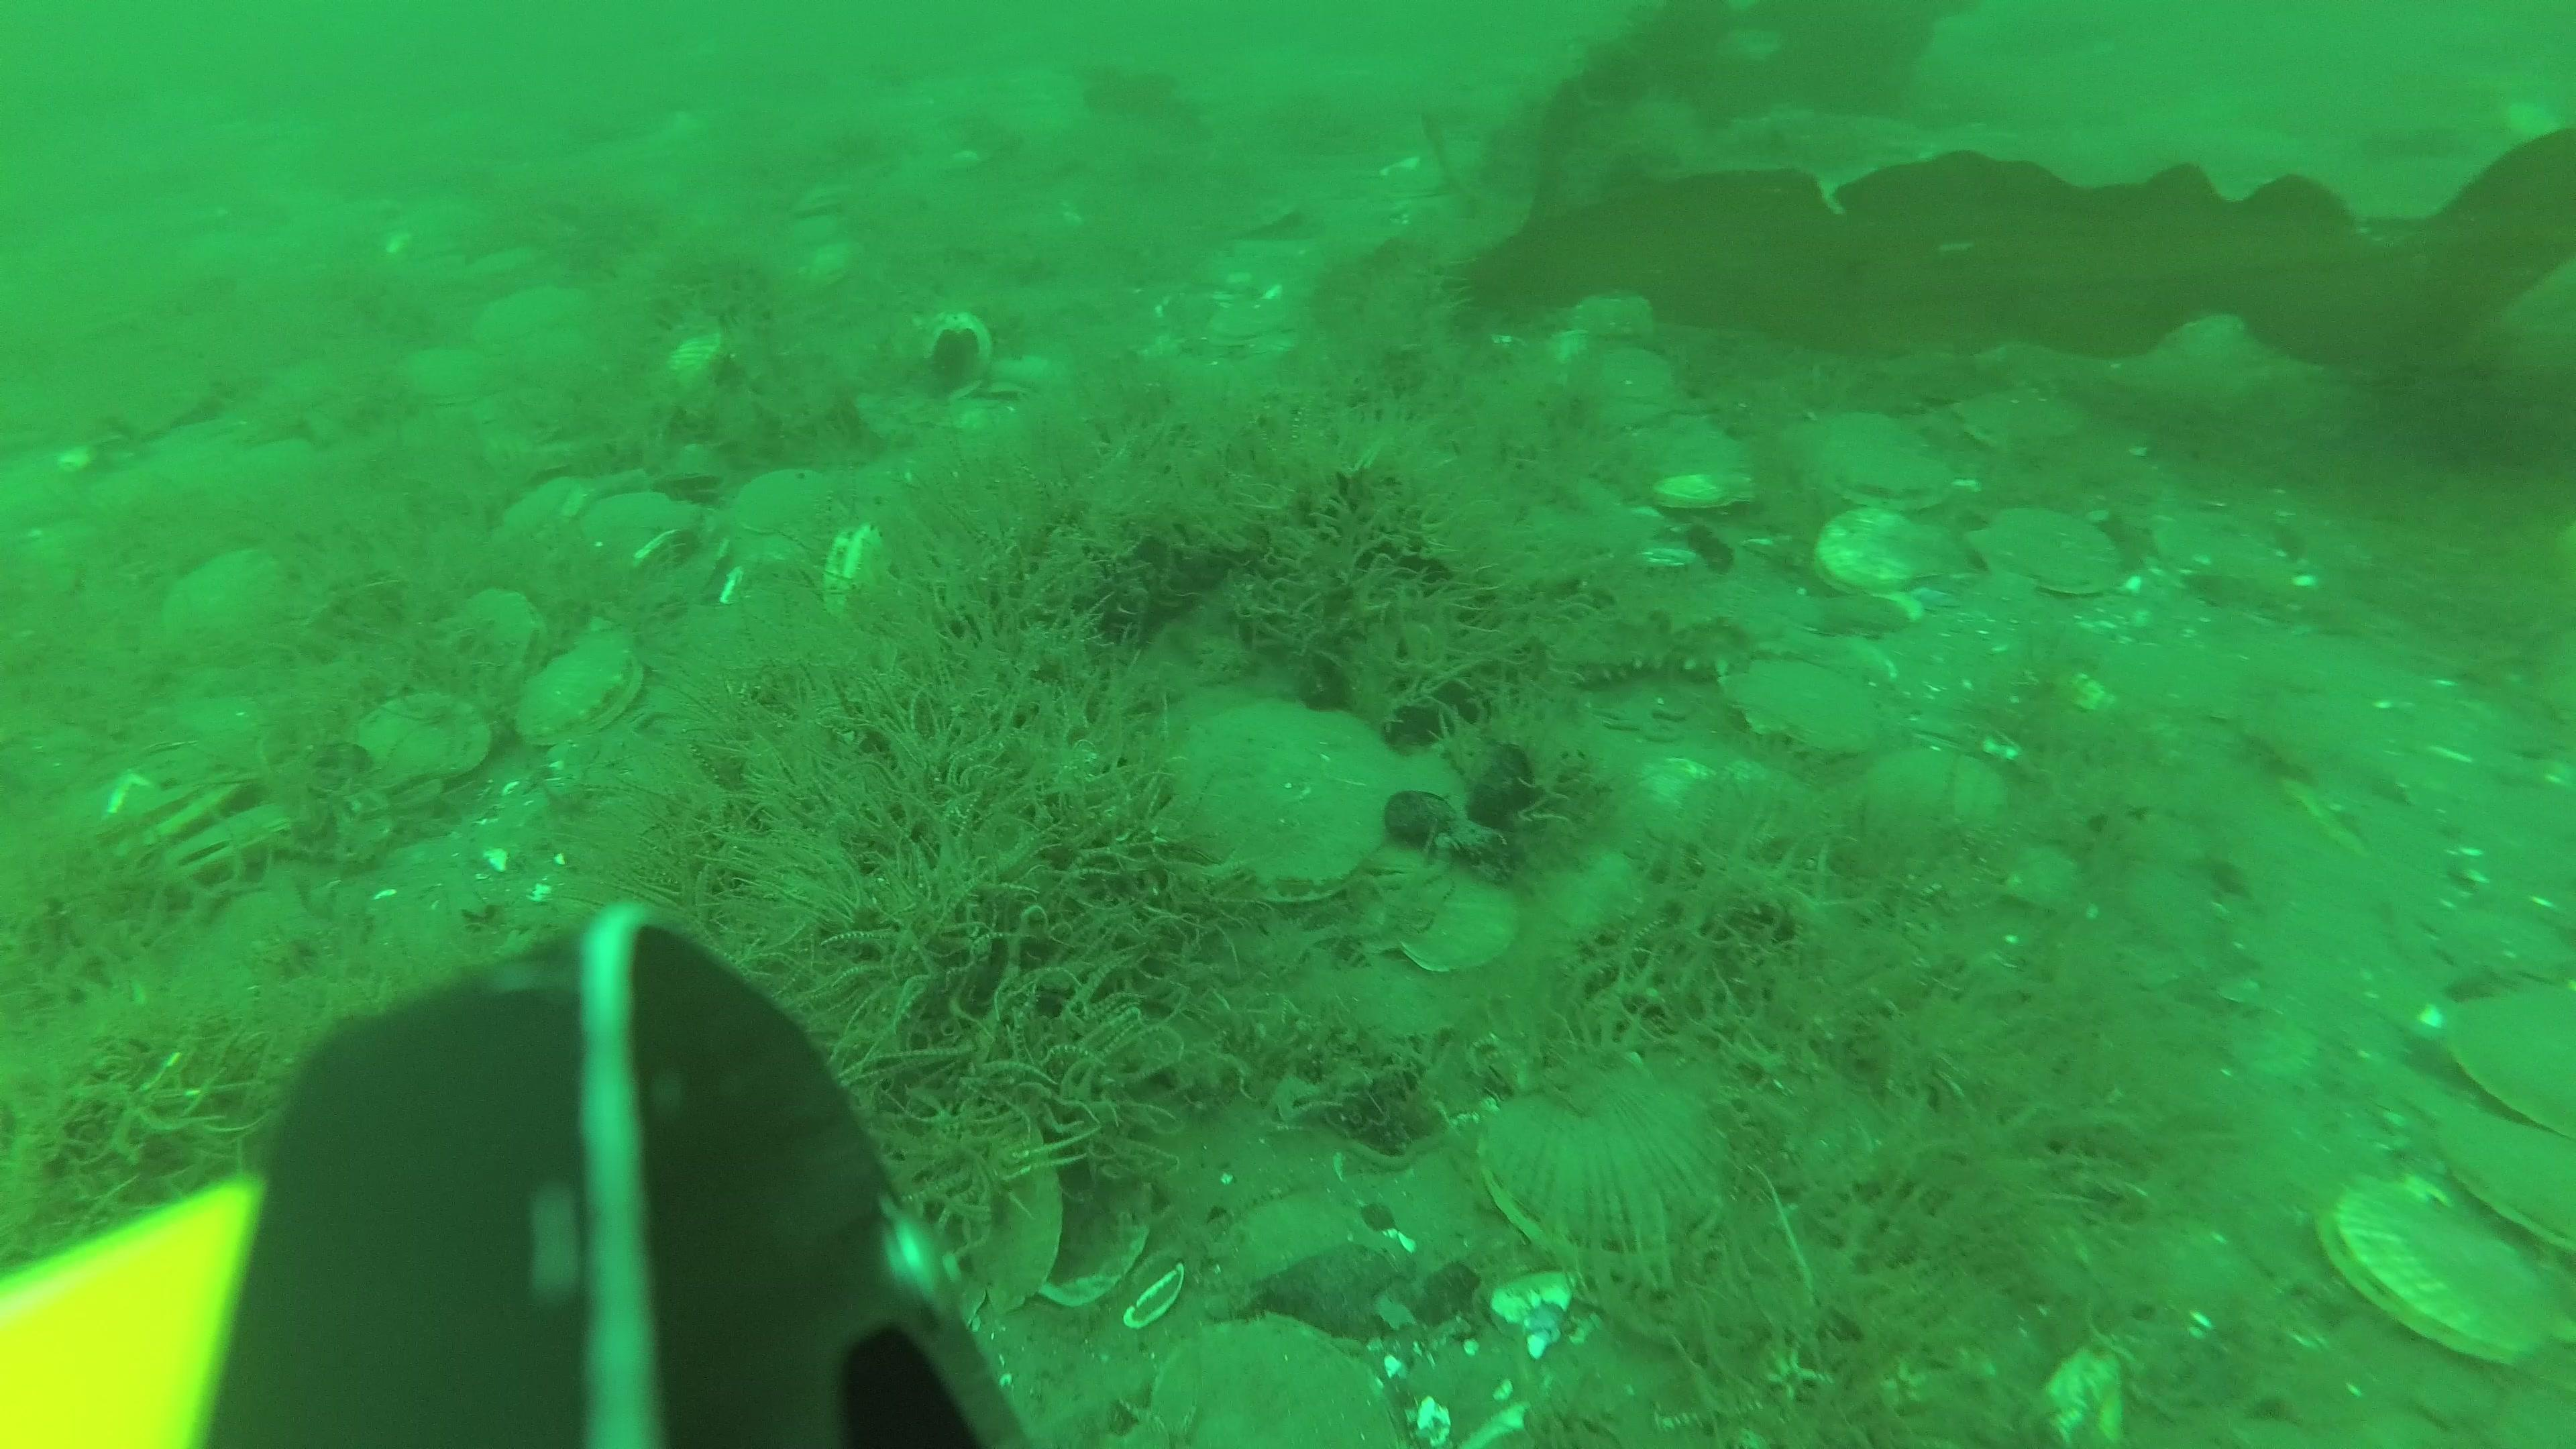scallop: (1152, 690, 1417, 911), (1491, 1054, 1727, 1260), (2327, 1175, 2560, 1375), (1148, 1307, 1407, 1449), (2434, 1095, 2576, 1258), (2447, 980, 2576, 1127), (1798, 410, 1959, 527), (1741, 649, 1898, 763), (517, 639, 660, 757), (1821, 501, 1967, 609), (1615, 414, 1759, 518), (1867, 743, 1997, 855), (354, 695, 490, 800), (1976, 506, 2120, 600), (165, 547, 283, 655), (1398, 878, 1518, 984), (428, 591, 548, 694), (94, 747, 207, 844), (127, 777, 248, 863), (163, 809, 280, 892), (589, 495, 692, 579), (736, 460, 833, 541), (1215, 299, 1297, 356)
